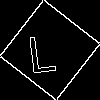L: (25, 25, 58, 74)
